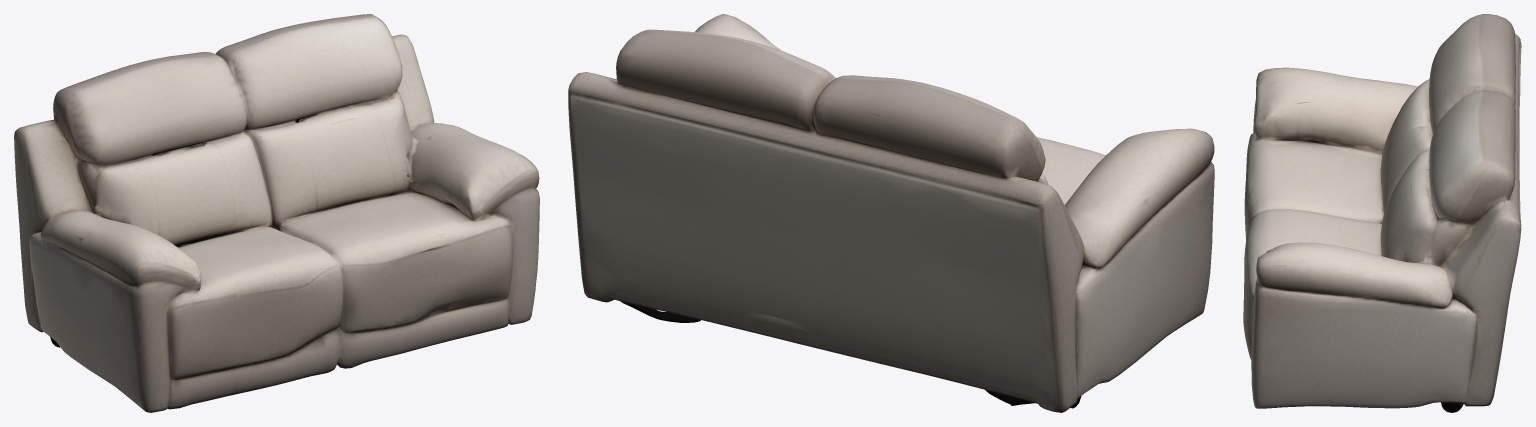
File: sofa.glb
The picture shows the model from 3 angles, left to right: view 1: azimuth 30°, elevation 25°; view 2: azimuth 150°, elevation 25°; view 3: azimuth 270°, elevation 25°; orthographic projection. The views are drawn at different scales.
Visible parts, largest first — view 1: geometry_0; view 2: geometry_0; view 3: geometry_0.
Boxes of the visible parts, box(x1,y1,x2,y2) form: geometry_0: box(14, 14, 539, 412); geometry_0: box(568, 14, 1214, 412); geometry_0: box(1243, 14, 1521, 412).
Bounding box in the file's own units: 1.66 × 0.9602 × 0.9752.
Materials: 1 (1 with a texture image).
